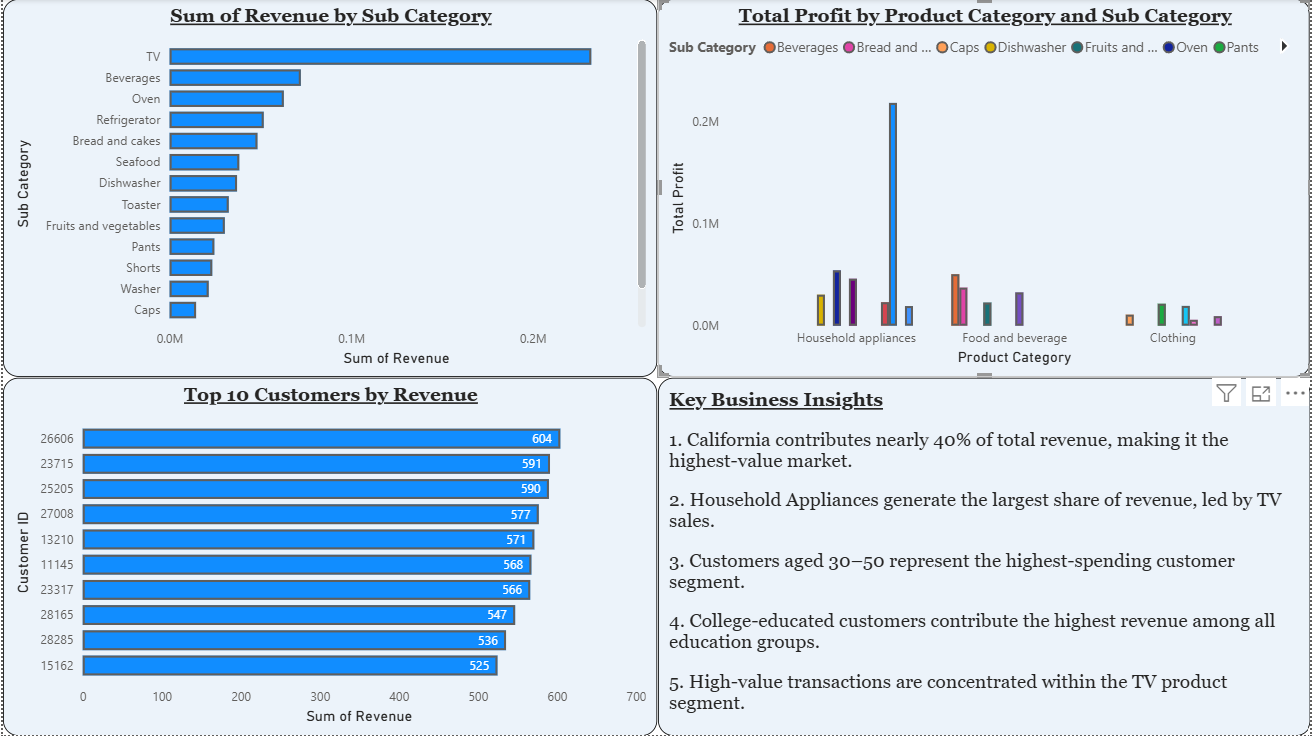

The page's visual inventory and layout, read from the dashboard file:
{"tool":"powerbi","page":{"name":"Product Performance","canvas":[1280,720],"ordinal":2},"visuals":[{"type":"barChart","fields":{"Y":["Sum(Orders.Revenue)"],"Category":["Orders.Sub Category"]},"box":[0,0,639.9,369.7],"z":0},{"type":"clusteredColumnChart","fields":{"Category":["Orders.Product Category"],"Y":["Orders.Total Profit"],"Series":["Orders.Sub Category"]},"box":[641.2,0,638.7,369.7],"z":1000},{"type":"barChart","title":"Top 10 Customers by Revenue","fields":{"Category":["Orders.Customer ID"],"Y":["Sum(Orders.Revenue)"]},"box":[0,370,640,350],"z":2000},{"type":"textbox","box":[641,370,639,350],"z":3000}]}

Visuals, with their boxes in screenshot pixels (x1, y1, x2, y2), scaled from the page's 1280x720 canvas onto the 1312x737 screenshot:
barChart - Sum(Orders.Revenue) x Orders.Sub Category: l=0, t=0, r=656, b=378
clusteredColumnChart - Orders.Product Category x Orders.Total Profit: l=657, t=0, r=1311, b=378
"Top 10 Customers by Revenue" barChart: l=0, t=379, r=656, b=736
textbox: l=657, t=379, r=1311, b=736
